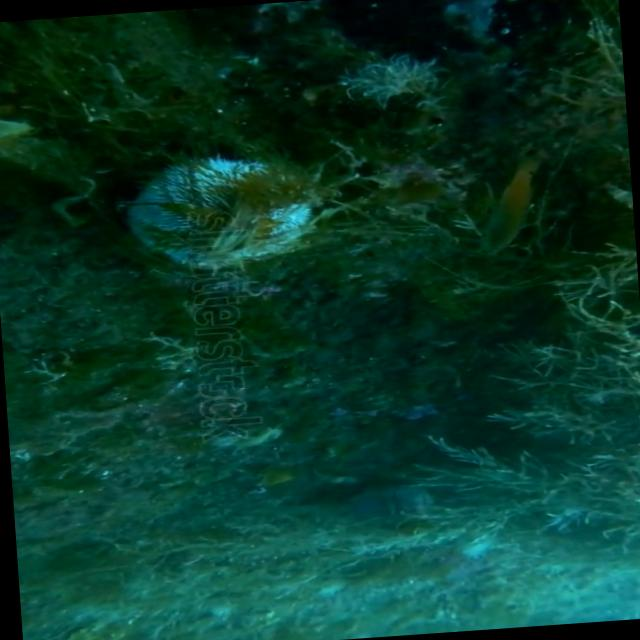Deniz Kestanesi: (127, 148, 327, 278)
